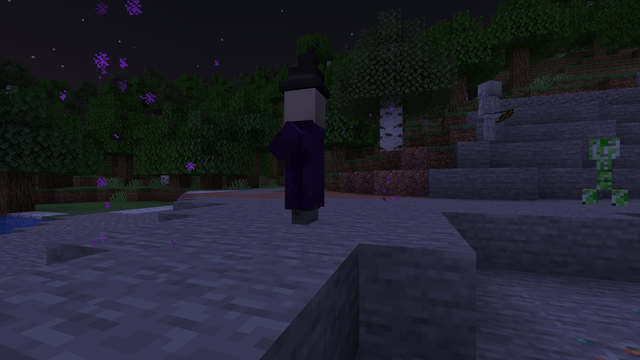creepers: (581, 134, 629, 206)
sorcieres: (277, 79, 330, 225)
squelettes: (477, 79, 501, 141)
